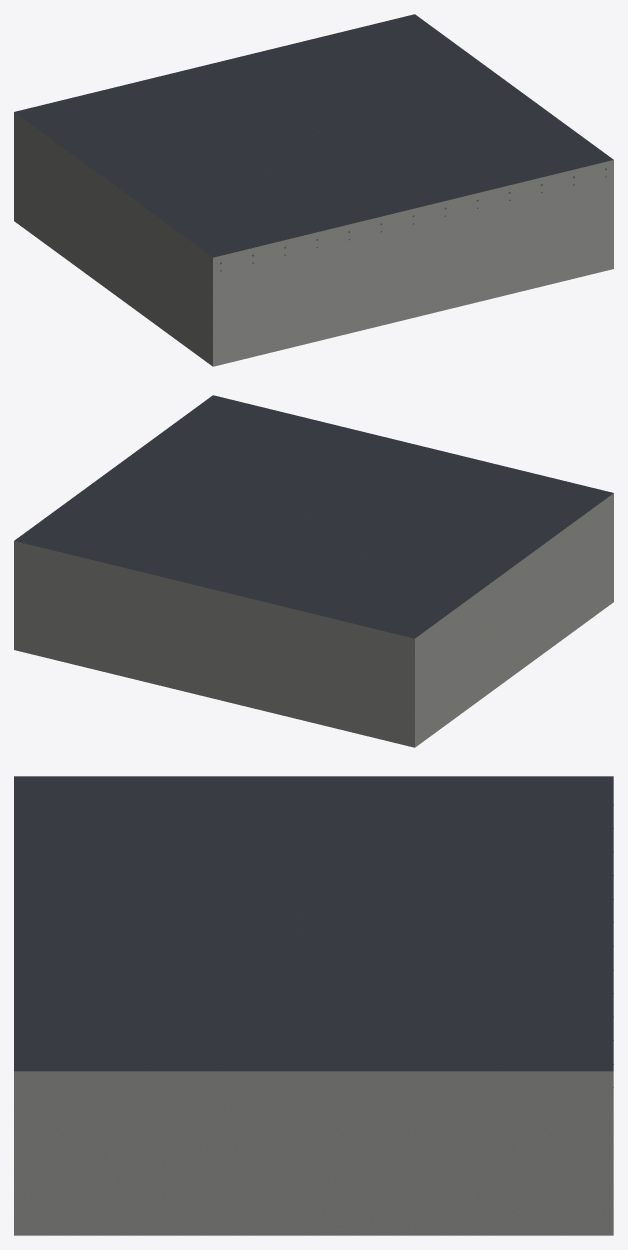
The model's file is college_arena.glb.
The picture shows the model from 3 angles, top to bottom: view 1: azimuth 30°, elevation 25°; view 2: azimuth 150°, elevation 25°; view 3: azimuth 270°, elevation 25°; orthographic projection. The views are drawn at different scales.
Parts seen in each view (by area): view 1: M_Roof_Dark, M_Wall_Concrete; view 2: M_Roof_Dark, M_Wall_Concrete; view 3: M_Roof_Dark, M_Wall_Concrete.
Boxes of the visible parts, <box> form: M_Roof_Dark: <box>14,14,613,257</box>; M_Wall_Concrete: <box>14,112,613,366</box>; M_Roof_Dark: <box>14,395,613,638</box>; M_Wall_Concrete: <box>14,493,613,747</box>; M_Roof_Dark: <box>14,776,613,1071</box>; M_Wall_Concrete: <box>14,1071,613,1235</box>.
Size of the model in its own units: 100 by 26 by 86.04.
Materials: 19 (3 with a texture image).
